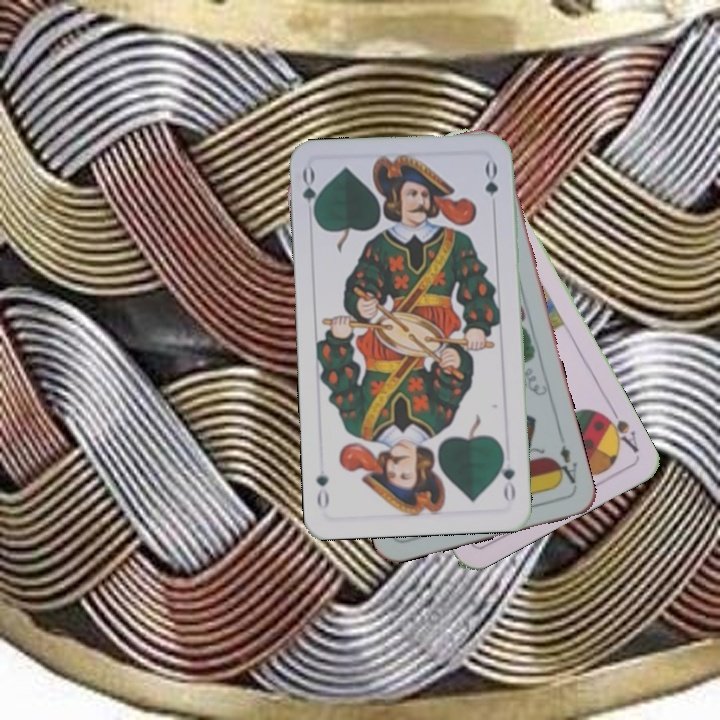EA: (551, 440, 580, 490)
GO: (298, 164, 323, 224), (495, 446, 518, 505)
SA: (597, 403, 642, 456)
